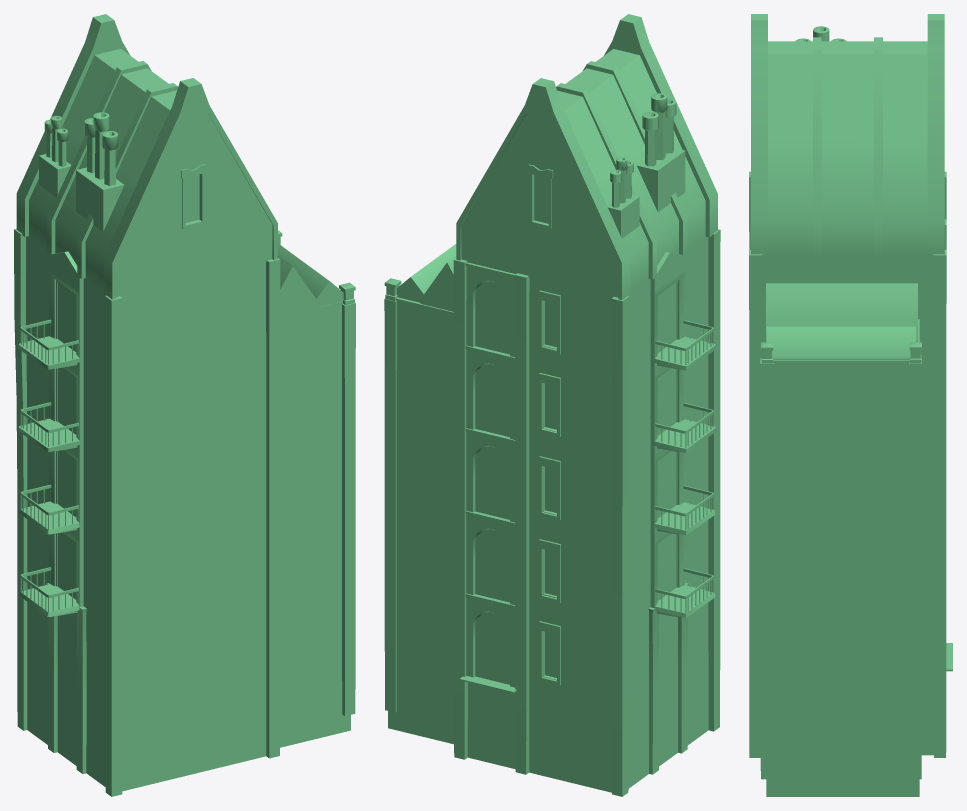
The model's file is Bgr_Building1.fbx.
3 renders of one model, left to right at view 1: azimuth 30°, elevation 25°; view 2: azimuth 150°, elevation 25°; view 3: azimuth 270°, elevation 25°, orthographic.
Parts seen in each view (by area): view 1: Bgr_Building1; view 2: Bgr_Building1; view 3: Bgr_Building1.
Boxes of the visible parts, x1=… form: Bgr_Building1: x1=14, y1=14, x2=355, y2=796; Bgr_Building1: x1=384, y1=14, x2=720, y2=796; Bgr_Building1: x1=749, y1=14, x2=952, y2=796.
Bounding box in the file's own units: 1599 × 3765 × 996.
